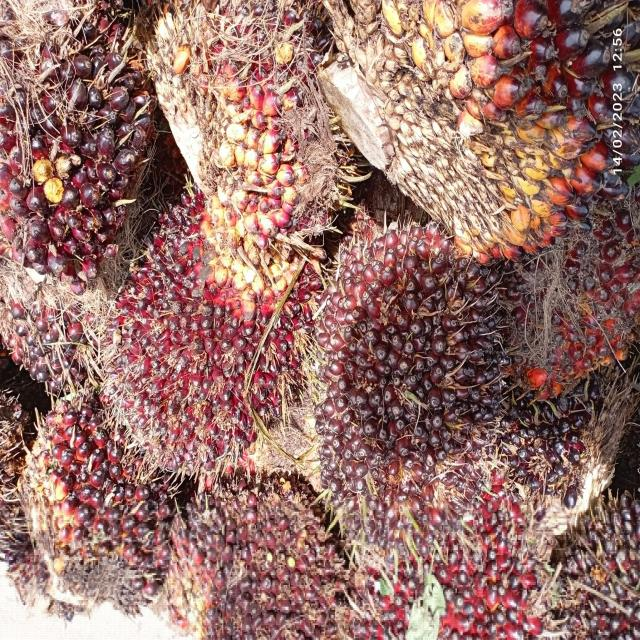fraksi 1: (311, 186, 508, 545), (0, 0, 202, 330), (5, 343, 171, 633), (173, 462, 342, 640), (528, 183, 640, 419)
fraksi 3: (90, 175, 342, 499)
